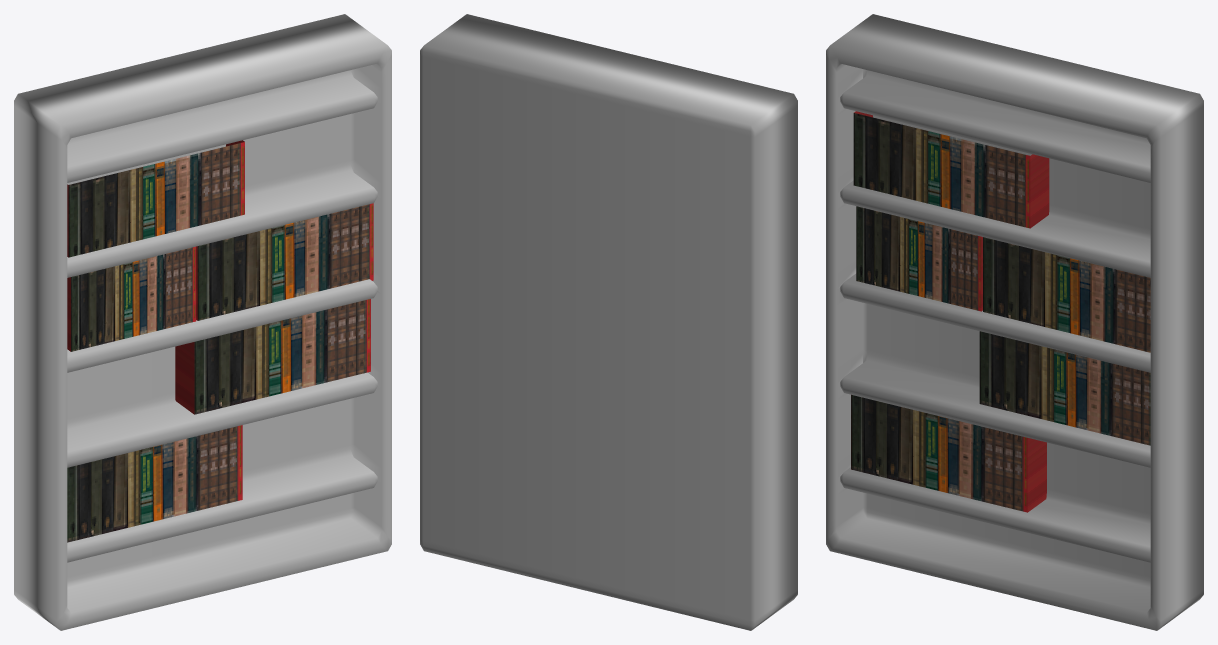
Rendered from Shelf.fbx.
3 renders of one model, left to right at view 1: azimuth 30°, elevation 25°; view 2: azimuth 150°, elevation 25°; view 3: azimuth 330°, elevation 25°, orthographic.
Visible parts, largest first — view 1: Cube, Plane.002, Plane, Plane.004, Plane.003, Plane.001; view 2: Cube; view 3: Cube, Plane.004, Plane.003, Plane, Plane.002, Plane.001.
Part boxes in pixels (bbox=[...]): Cube: bbox=[14, 14, 391, 630]; Plane.002: bbox=[175, 299, 370, 414]; Plane: bbox=[196, 203, 373, 320]; Plane.004: bbox=[67, 425, 242, 542]; Plane.003: bbox=[67, 140, 244, 257]; Plane.001: bbox=[67, 246, 196, 351]; Cube: bbox=[420, 14, 797, 630]; Cube: bbox=[826, 14, 1203, 630]; Plane.004: bbox=[851, 394, 1046, 512]; Plane.003: bbox=[853, 111, 1049, 228]; Plane: bbox=[983, 237, 1150, 352]; Plane.002: bbox=[979, 331, 1150, 445]; Plane.001: bbox=[856, 206, 982, 311].
Size of the model in its own units: 379 by 547 by 86.16.
